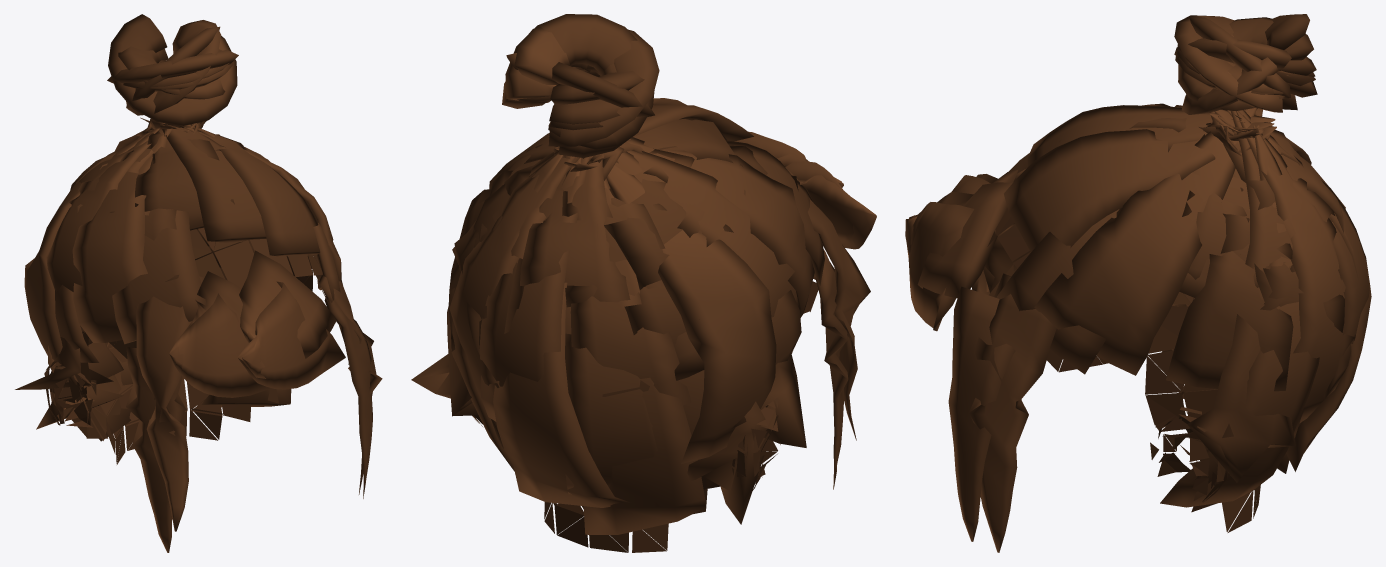
The model's file is kopf.haar.dutt_hoch.glb.
3 renders of one model, left to right at view 1: azimuth 30°, elevation 25°; view 2: azimuth 150°, elevation 25°; view 3: azimuth 270°, elevation 25°, orthographic. The views are drawn at different scales.
Parts seen in each view (by area): view 1: haar; view 2: haar; view 3: haar.
Part boxes in pixels (left/top/right/bottom): haar: left=15, top=14, right=382, bottom=552; haar: left=411, top=14, right=876, bottom=552; haar: left=905, top=14, right=1371, bottom=552.
Bounding box in the file's own units: 0.2175 × 0.2788 × 0.2327.
